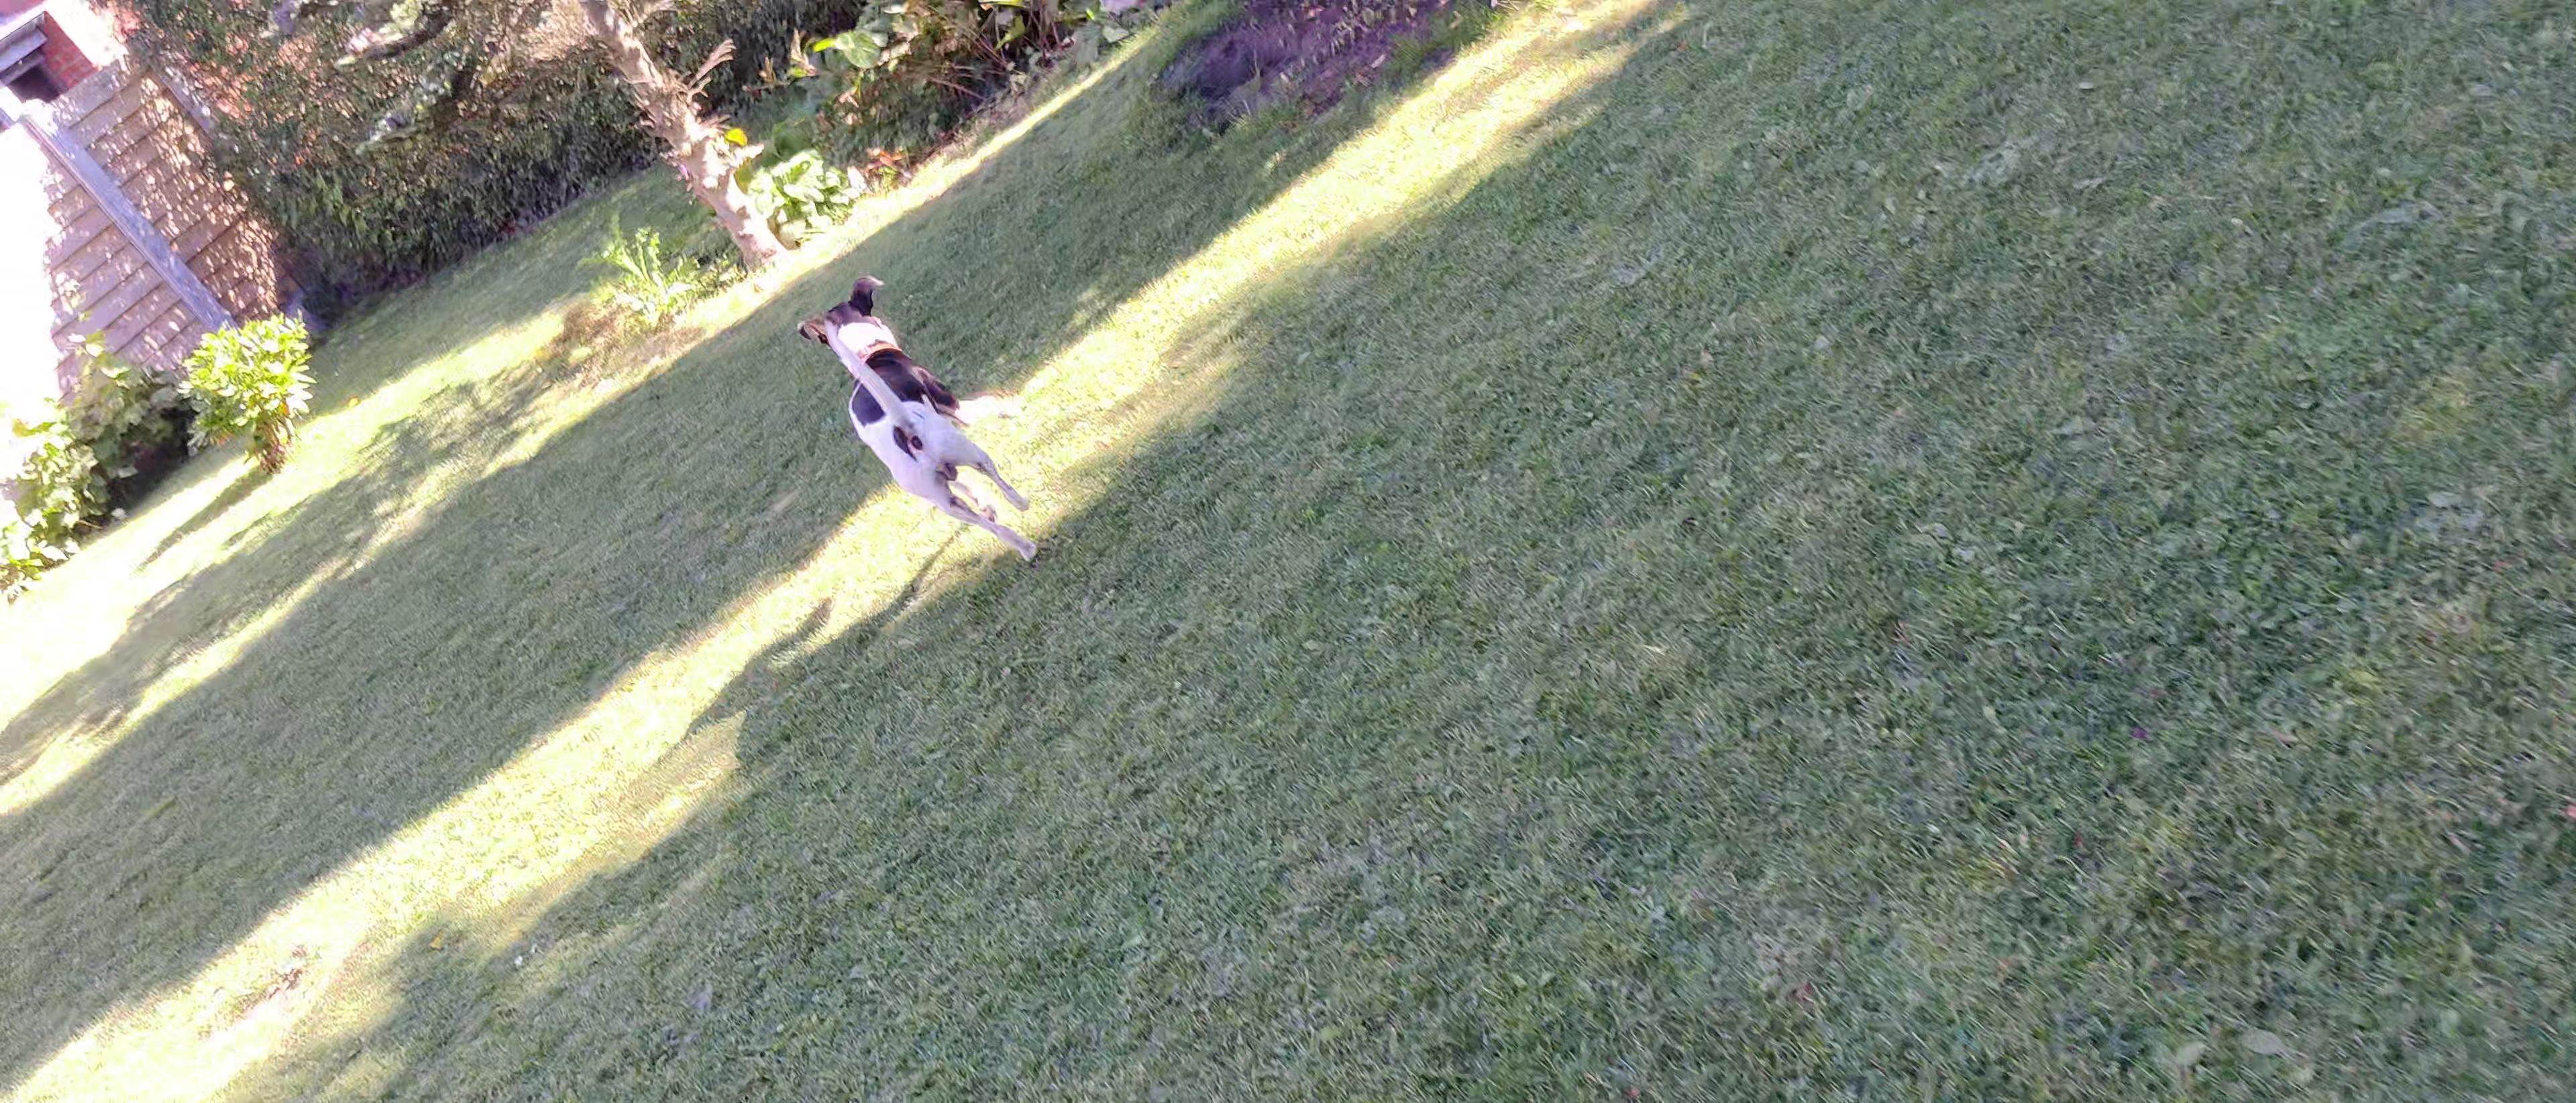Dog: (775, 268, 1048, 567)
